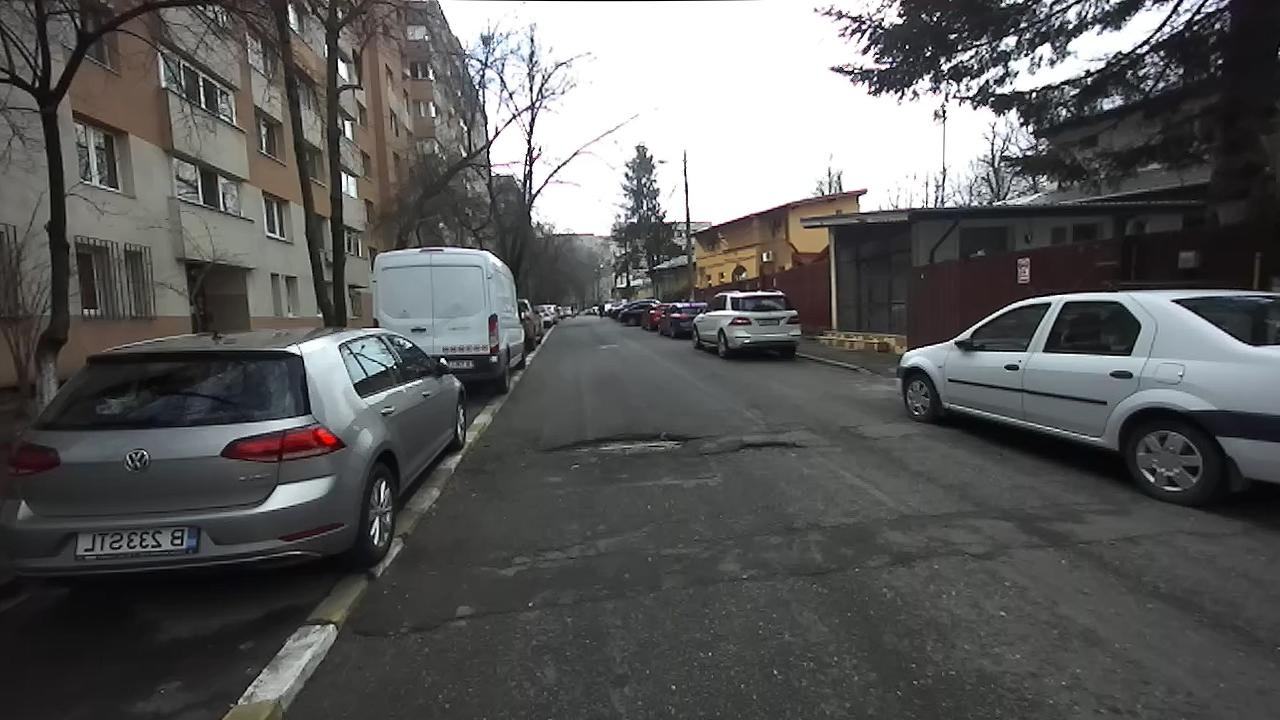pothole: (538, 429, 695, 461), (354, 609, 503, 642), (728, 438, 809, 458)
